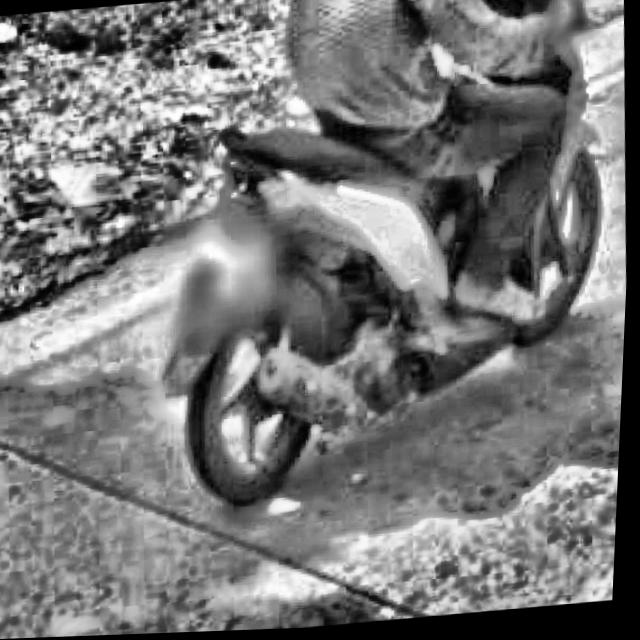motorcycle: (81, 0, 640, 525)
